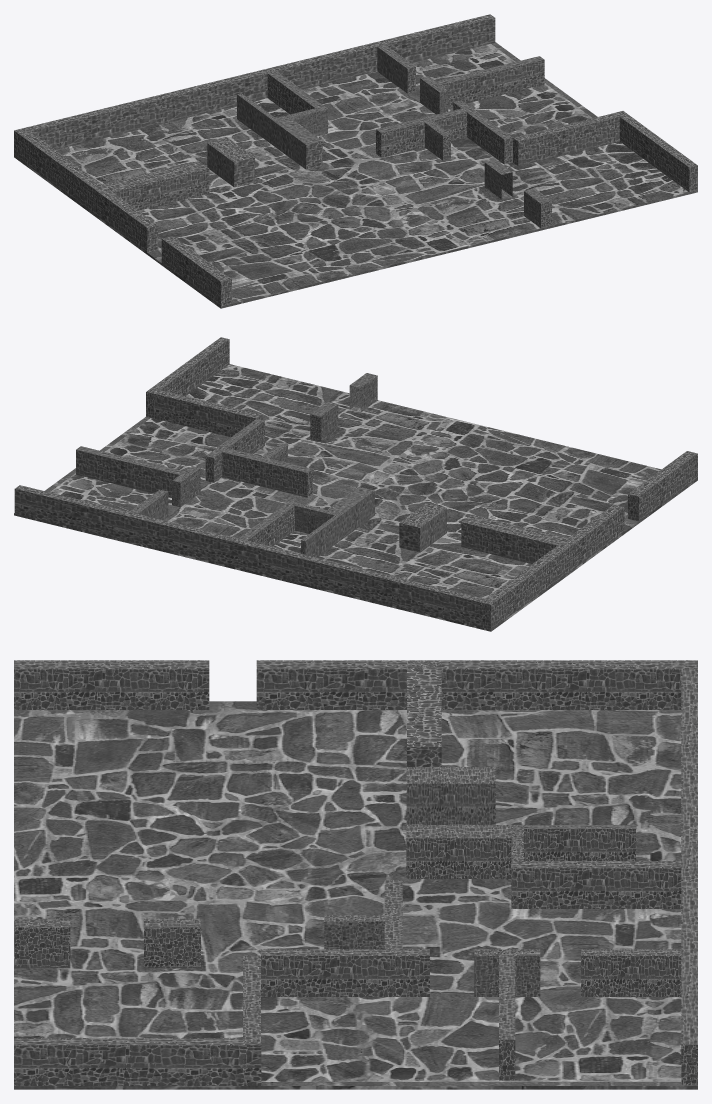
Rendered from tavern_174.gltf.
3 views of the same model, one above another, from view 1: azimuth 30°, elevation 25°; view 2: azimuth 150°, elevation 25°; view 3: azimuth 270°, elevation 25° (orthographic). The views are drawn at different scales.
Parts seen in each view (by area): view 1: Box123_Material #170_0.002; view 2: Box123_Material #170_0.002; view 3: Box123_Material #170_0.002.
Boxes of the visible parts, bbox=[...] form: Box123_Material #170_0.002: bbox=[14, 14, 697, 308]; Box123_Material #170_0.002: bbox=[14, 337, 697, 631]; Box123_Material #170_0.002: bbox=[14, 660, 697, 1089].
Bounding box in the file's own units: 288 × 15.48 × 216.
